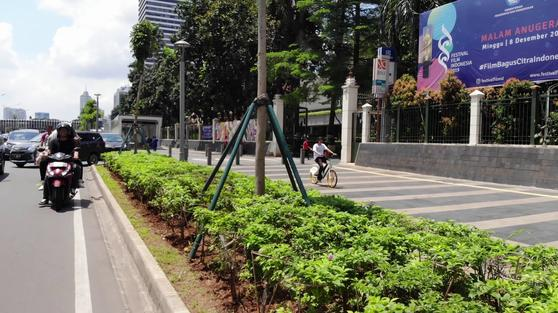bike: (304, 150, 342, 192)
